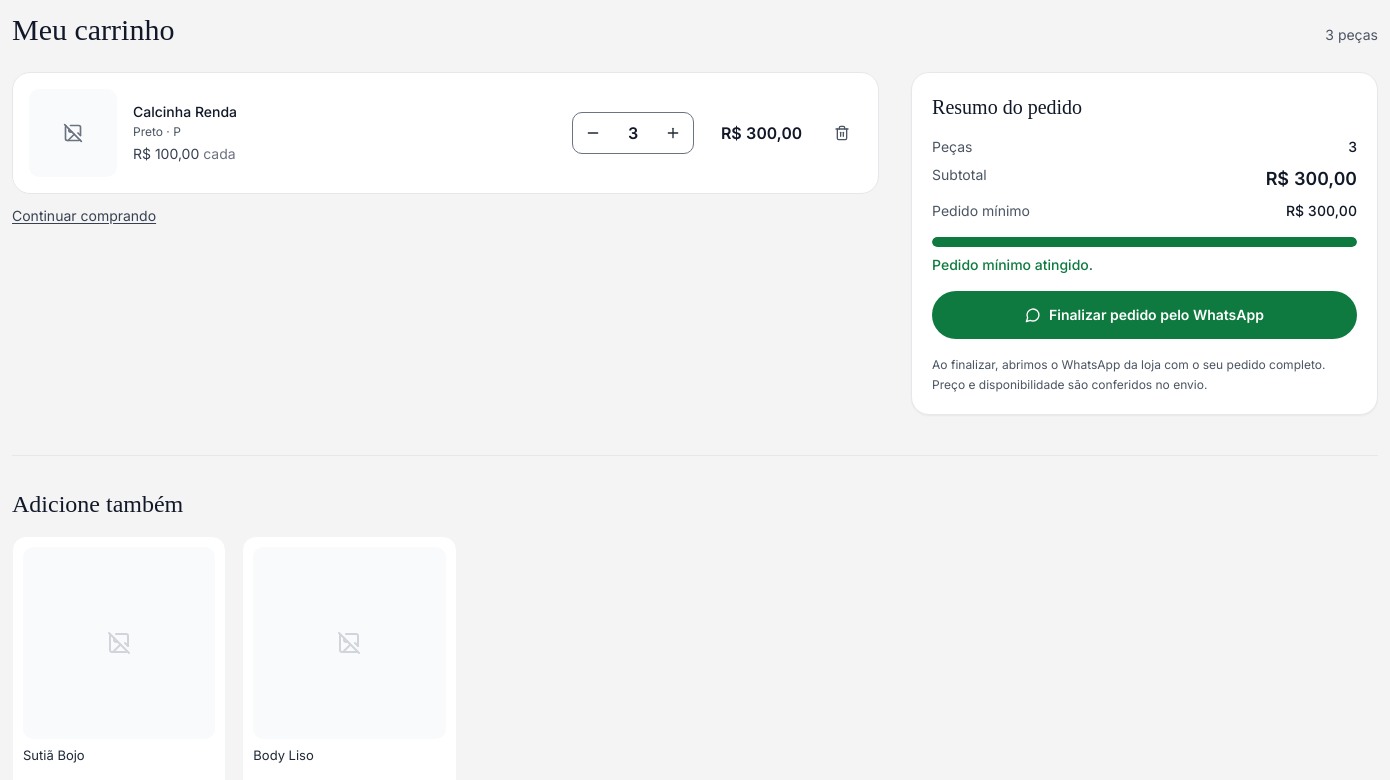
fallback quando o registro está limitado (429 rate_limited) › mostra aviso de pedido NÃO registrado, link do WhatsApp e preserva o carrinho — sem código nem sucesso
Click the button "Finalizar pedido pelo WhatsApp" at (1145, 315), box [932,291,1357,339]
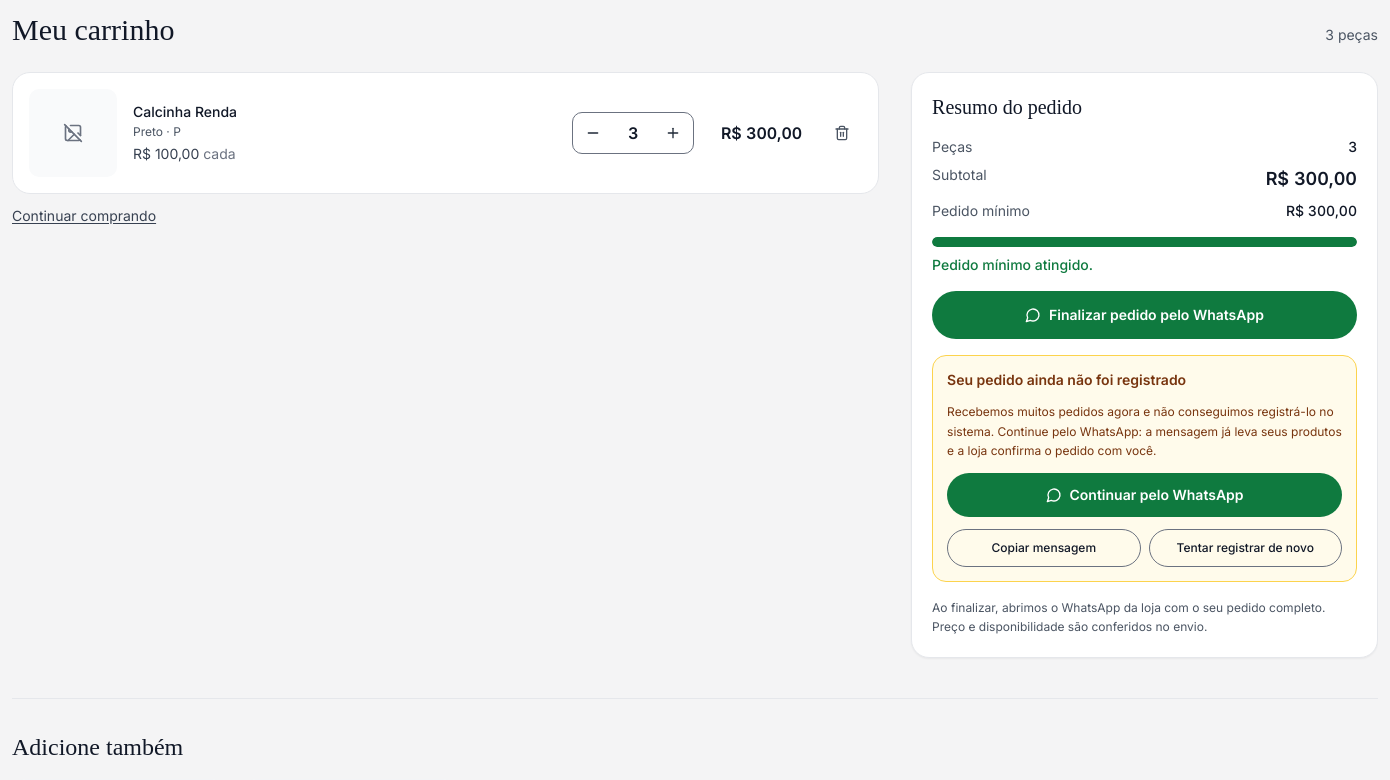
Expected: the text "Seu pedido ainda não foi registrado" is shown, [947,371,1186,388]
